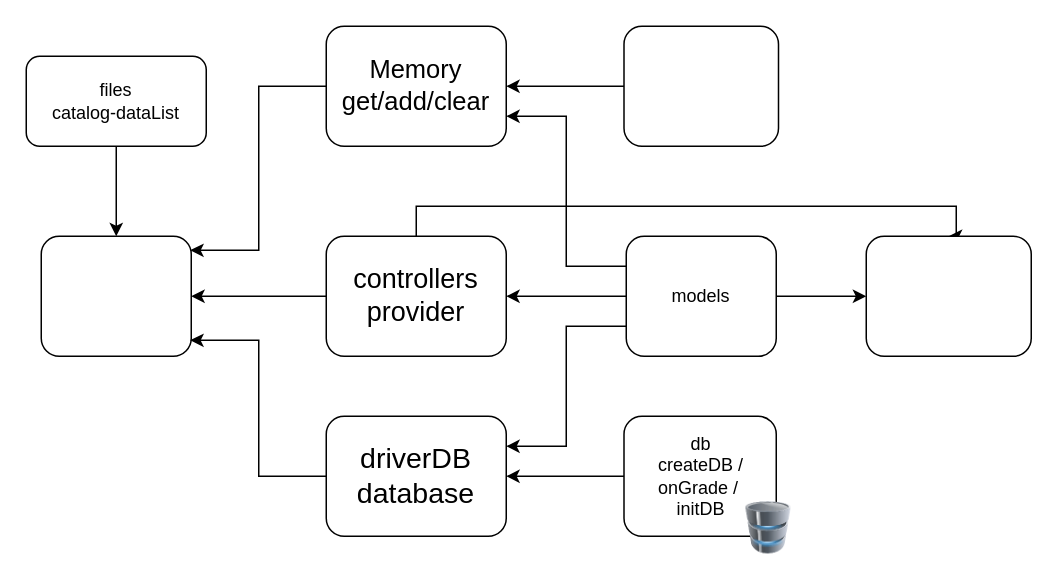
This 1058x581 diagram has some shape labels left out. The box of each missing label's shape, as (x1, y1, x2, y2) in pixels:
repositories switch memo/driver: (40, 235, 191, 356)
utils categoryName: (622, 25, 778, 146)
Views: (865, 235, 1031, 356)
